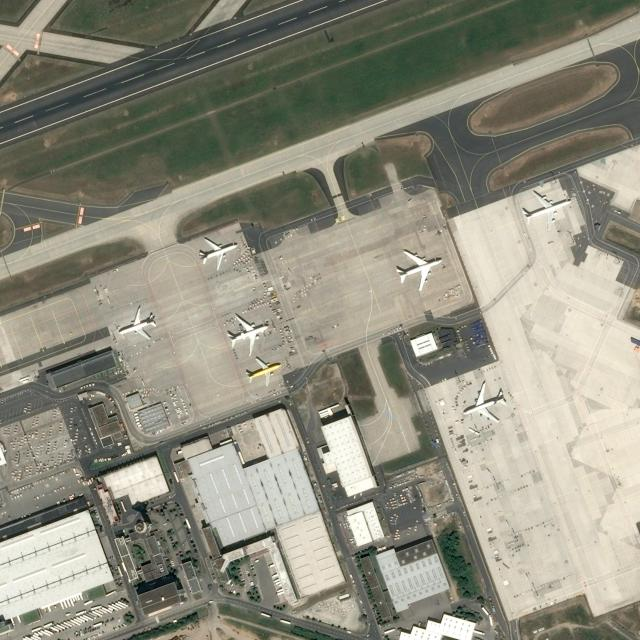aircraft: (393, 243, 443, 290), (520, 189, 574, 226), (464, 382, 511, 424), (226, 315, 270, 353), (116, 306, 159, 343), (196, 236, 240, 271), (244, 358, 285, 386)
